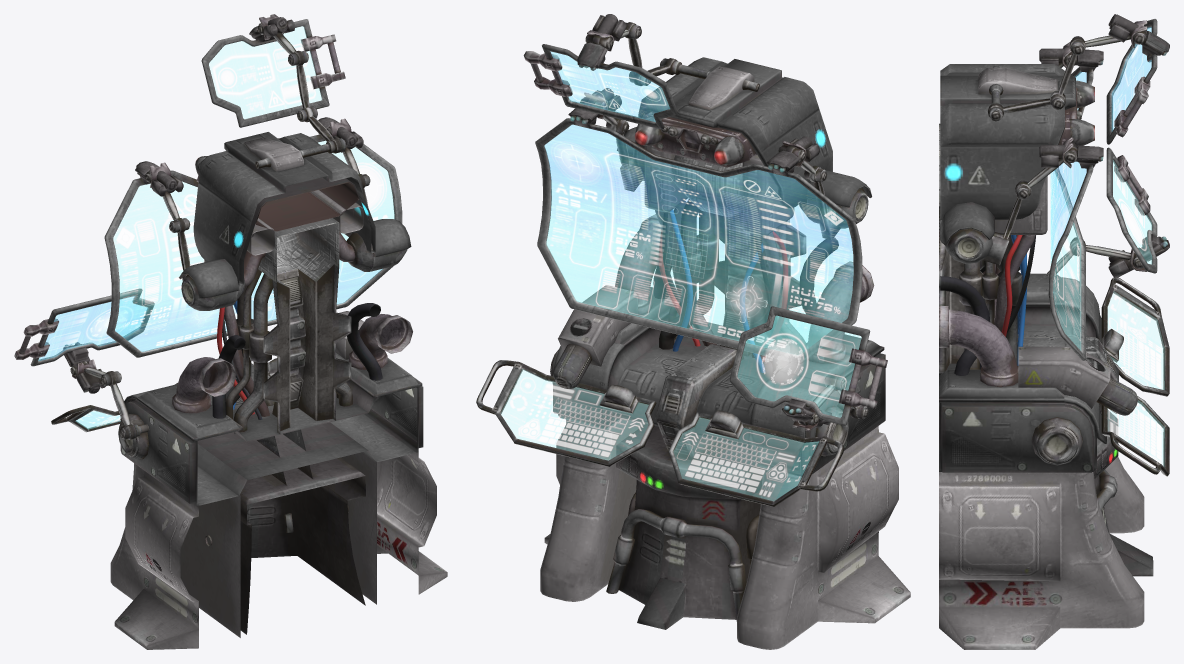
Rendered from hologram_console.glb.
3 views of the same model, side by side, from view 1: azimuth 30°, elevation 25°; view 2: azimuth 150°, elevation 25°; view 3: azimuth 270°, elevation 25° (orthographic). The views are drawn at different scales.
Visible parts, largest first — view 1: Monitor.35_low, Screen04, Monitor.66_low, Monitor.67_low, Monitor.20_low, Monitor.49_low, Monitor.58_low, Monitor.44_low, Monitor.50_low, Monitor.64_low, Monitor.48_low, Monitor.47_low (+15 smaller); view 2: Screen04, Monitor.35_low, Monitor.66_low, Monitor.20_low, Monitor.49_low, Monitor.15_low, Monitor.67_low, Monitor.44_low, Monitor.58_low, Monitor.16_low, Monitor.55_low, Monitor.63_low (+23 smaller); view 3: Monitor.35_low, Monitor.66_low, Monitor.49_low, Screen04, Monitor.15_low, Monitor.01_low, Monitor.58_low, Monitor.44_low, Monitor.11_low, Monitor.56_low, Monitor.20_low, Monitor.45_low (+26 smaller).
Part boxes in pixels (bbox=[...]): Monitor.35_low: bbox=[110, 452, 447, 649]; Screen04: bbox=[38, 26, 394, 429]; Monitor.66_low: bbox=[120, 353, 423, 505]; Monitor.67_low: bbox=[258, 218, 351, 433]; Monitor.20_low: bbox=[240, 457, 365, 634]; Monitor.49_low: bbox=[193, 132, 375, 285]; Monitor.58_low: bbox=[172, 314, 412, 413]; Monitor.44_low: bbox=[104, 134, 402, 357]; Monitor.50_low: bbox=[196, 172, 359, 231]; Monitor.64_low: bbox=[233, 265, 352, 434]; Monitor.48_low: bbox=[179, 219, 411, 298]; Monitor.47_low: bbox=[181, 233, 407, 310]; Screen04: bbox=[500, 51, 861, 500]; Monitor.35_low: bbox=[540, 418, 910, 649]; Monitor.66_low: bbox=[552, 287, 885, 476]; Monitor.20_low: bbox=[616, 424, 762, 629]; Monitor.49_low: bbox=[633, 57, 832, 208]; Monitor.15_low: bbox=[476, 360, 843, 506]; Monitor.67_low: bbox=[671, 155, 806, 356]; Monitor.44_low: bbox=[535, 118, 862, 364]; Monitor.58_low: bbox=[615, 214, 874, 363]; Monitor.16_low: bbox=[655, 344, 743, 460]; Monitor.55_low: bbox=[644, 145, 794, 236]; Monitor.63_low: bbox=[659, 199, 787, 374]; Monitor.35_low: bbox=[939, 457, 1144, 649]; Monitor.66_low: bbox=[939, 273, 1106, 472]; Monitor.49_low: bbox=[940, 64, 1075, 219]; Screen04: bbox=[1050, 27, 1164, 466]; Monitor.15_low: bbox=[1101, 277, 1169, 476]; Monitor.01_low: bbox=[1018, 346, 1110, 408]; Monitor.58_low: bbox=[939, 264, 1020, 387]; Monitor.44_low: bbox=[1048, 67, 1093, 360]; Monitor.11_low: bbox=[988, 26, 1147, 121]; Monitor.56_low: bbox=[1031, 417, 1082, 465]; Monitor.20_low: bbox=[1093, 410, 1153, 576]; Monitor.45_low: bbox=[978, 67, 1057, 94].
Bounding box in the file's own units: 2.1 × 2.98 × 1.07.
Materials: 2 (2 with a texture image).
